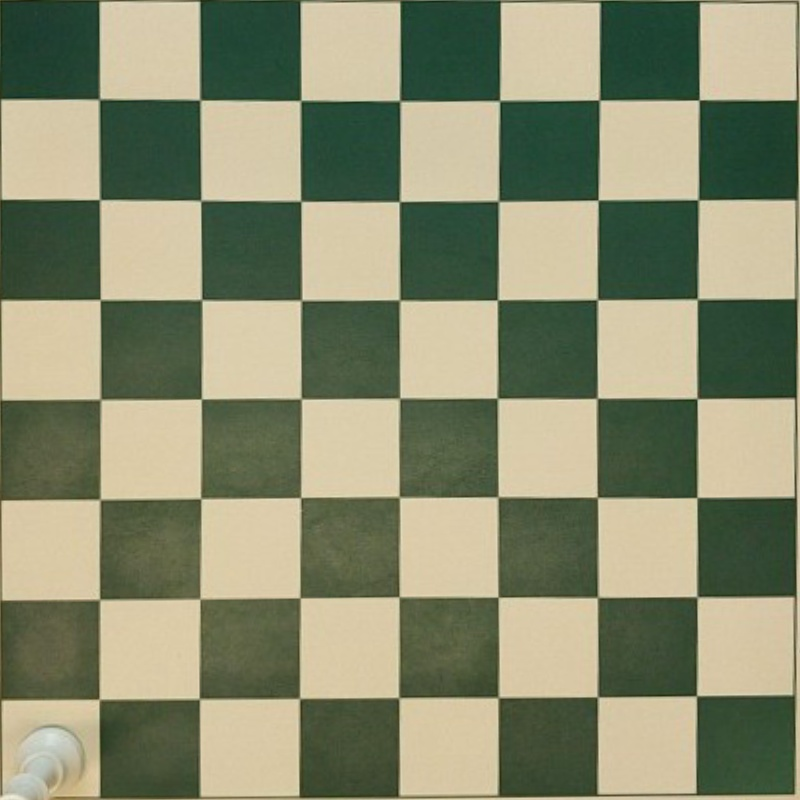white-king: (4, 725, 83, 799)
